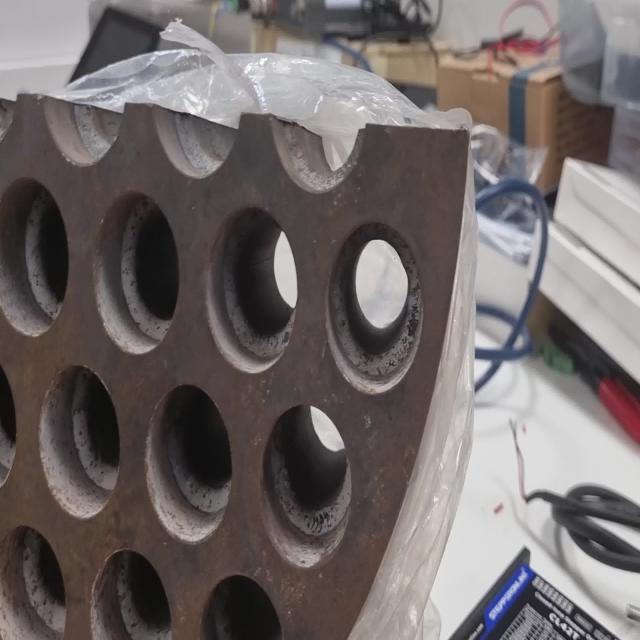Hole: (325, 216, 425, 394), (259, 401, 352, 569), (205, 206, 298, 374), (92, 190, 180, 356), (145, 383, 233, 544), (38, 364, 120, 520), (1, 175, 70, 338), (89, 546, 173, 640), (1, 522, 67, 640), (199, 570, 286, 640)
